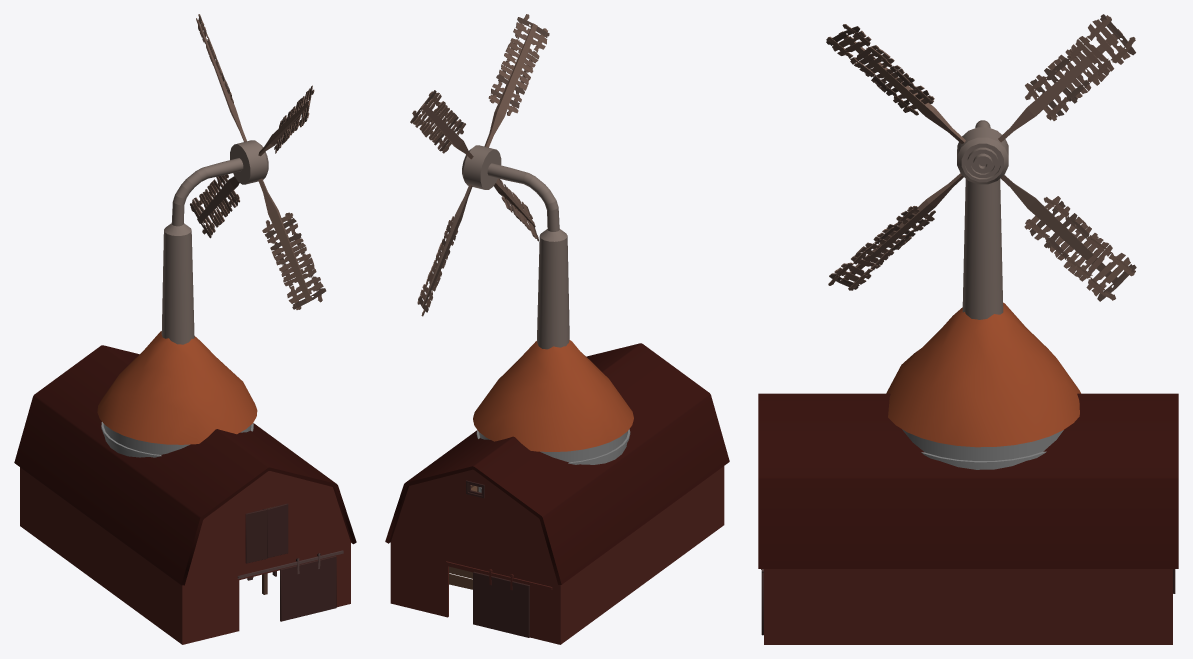
File: FINALES.fbx
3 renders of one model, left to right at view 1: azimuth 30°, elevation 25°; view 2: azimuth 150°, elevation 25°; view 3: azimuth 270°, elevation 25°, orthographic. The views are drawn at different scales.
Parts seen in each view (by area): view 1: Granero, Cube.028, Cylinder.003; view 2: Granero, Cylinder.003, Cube.028; view 3: Granero, Cylinder.003, Cube.028.
Part boxes in pixels (<box>): Granero: <box>14,345,356,644</box>; Cube.028: <box>97,331,257,457</box>; Cylinder.003: <box>161,14,326,344</box>; Granero: <box>385,343,729,644</box>; Cylinder.003: <box>410,14,569,349</box>; Cube.028: <box>473,340,633,492</box>; Granero: <box>758,393,1178,644</box>; Cylinder.003: <box>826,14,1136,319</box>; Cube.028: <box>886,302,1080,469</box>.
Size of the model in its own units: 1298 by 3496 by 2141.
